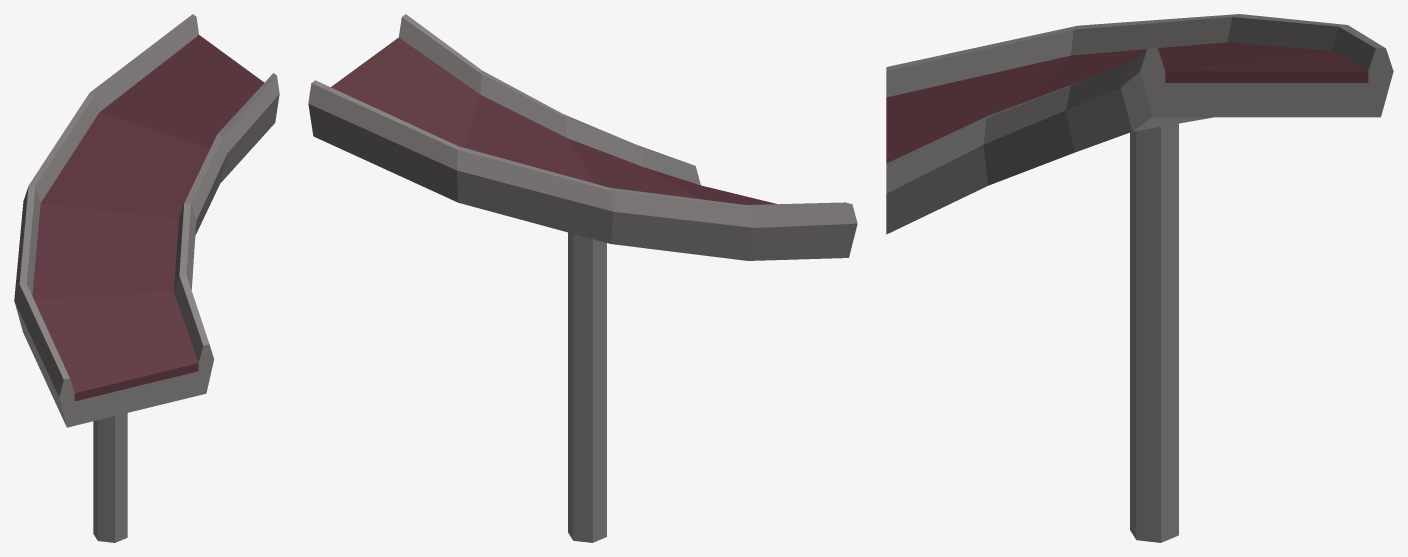
Rendered from scifi-belt-moving-curve-up.glb.
The picture shows the model from 3 angles, left to right: view 1: azimuth 30°, elevation 25°; view 2: azimuth 150°, elevation 25°; view 3: azimuth 270°, elevation 25°; orthographic projection. The views are drawn at different scales.
Visible parts, largest first — view 1: belt-moving-curve-up; view 2: belt-moving-curve-up; view 3: belt-moving-curve-up.
Part boxes in pixels (<box>): belt-moving-curve-up: <box>14,14,279,542</box>; belt-moving-curve-up: <box>308,14,857,542</box>; belt-moving-curve-up: <box>886,14,1393,542</box>.
Size of the model in its own units: 2 by 2.6 by 2.
